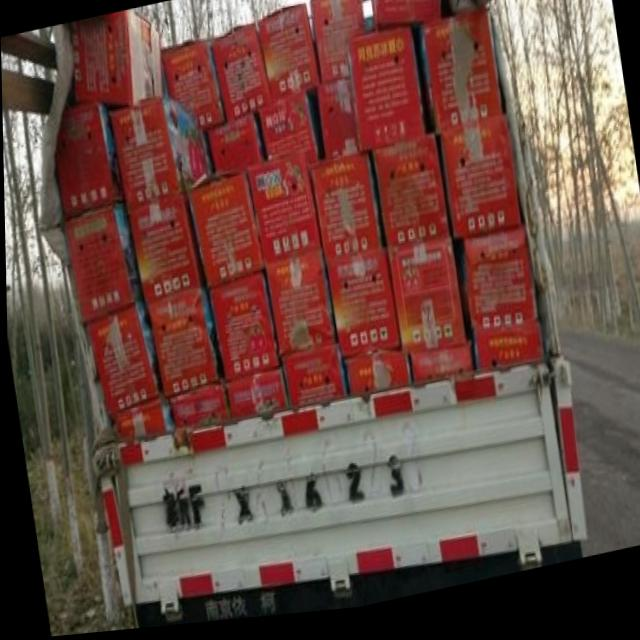box: (108, 94, 213, 210), (414, 19, 506, 147), (347, 32, 434, 159), (434, 124, 520, 250), (61, 202, 143, 325), (450, 237, 538, 351), (386, 243, 466, 359), (306, 157, 386, 272), (263, 252, 338, 374), (70, 11, 162, 110), (371, 138, 448, 256), (84, 304, 161, 419), (186, 176, 263, 291), (53, 105, 126, 225), (325, 254, 399, 368), (127, 196, 206, 302), (145, 291, 221, 401), (248, 157, 320, 271), (208, 276, 280, 385), (255, 8, 321, 110), (160, 41, 227, 134), (307, 0, 365, 92), (258, 93, 322, 172), (206, 115, 266, 189), (280, 352, 348, 413), (229, 27, 272, 123), (316, 81, 362, 167), (469, 331, 542, 383), (223, 372, 287, 427), (341, 360, 411, 406), (107, 398, 174, 445), (166, 385, 230, 434), (405, 351, 472, 393), (373, 0, 441, 38)
